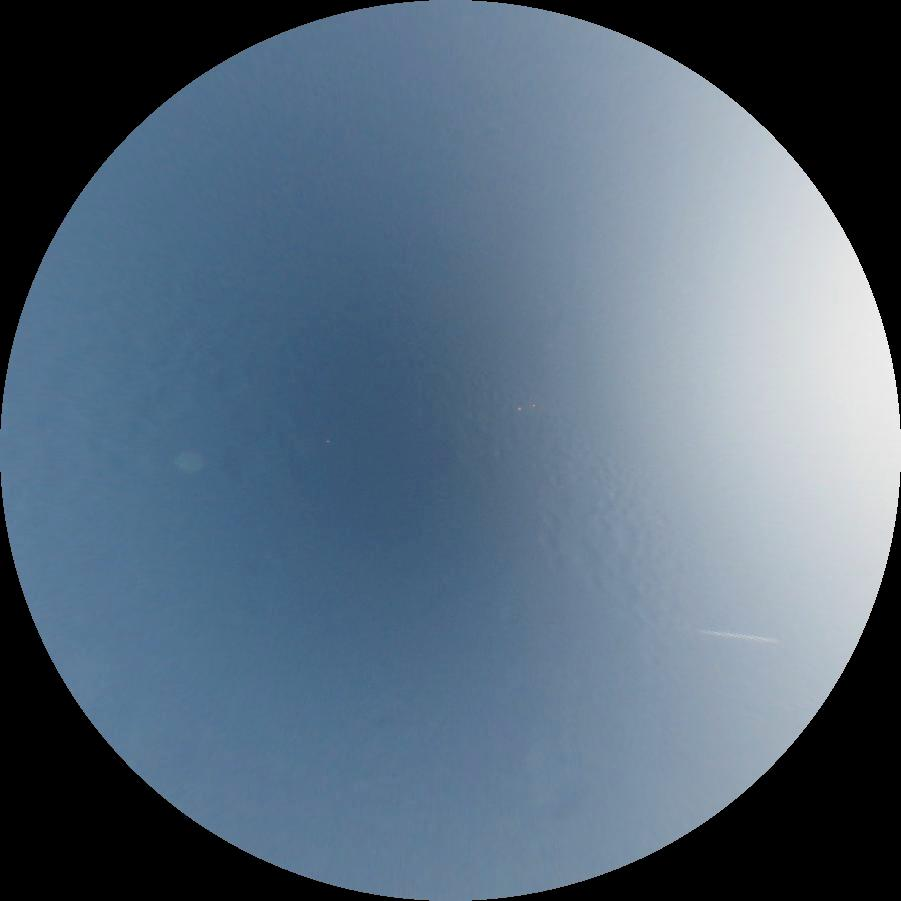contrail young: (697, 626, 780, 646)
